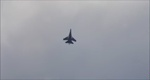maybay_muctieu: (63, 26, 78, 48)
